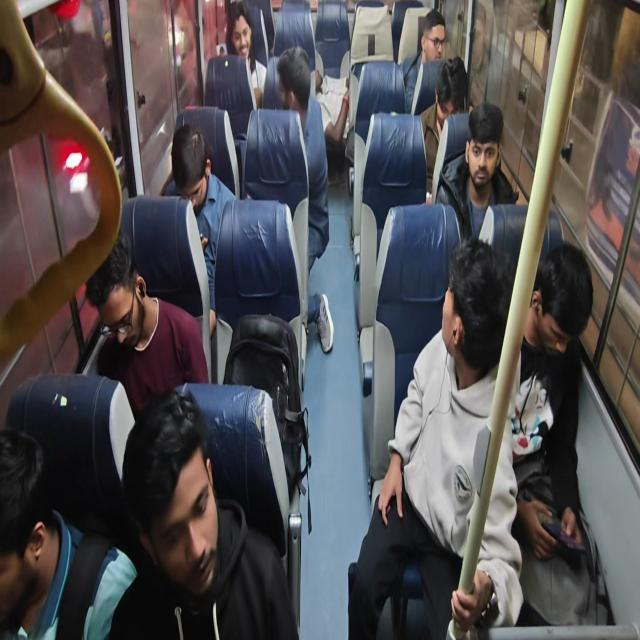person: (130, 418, 221, 580), (0, 434, 63, 612), (439, 248, 496, 356), (83, 272, 145, 348), (534, 259, 577, 353), (460, 113, 501, 193), (164, 150, 208, 209), (274, 51, 312, 113), (434, 59, 468, 124), (226, 2, 252, 56), (413, 4, 439, 53)
